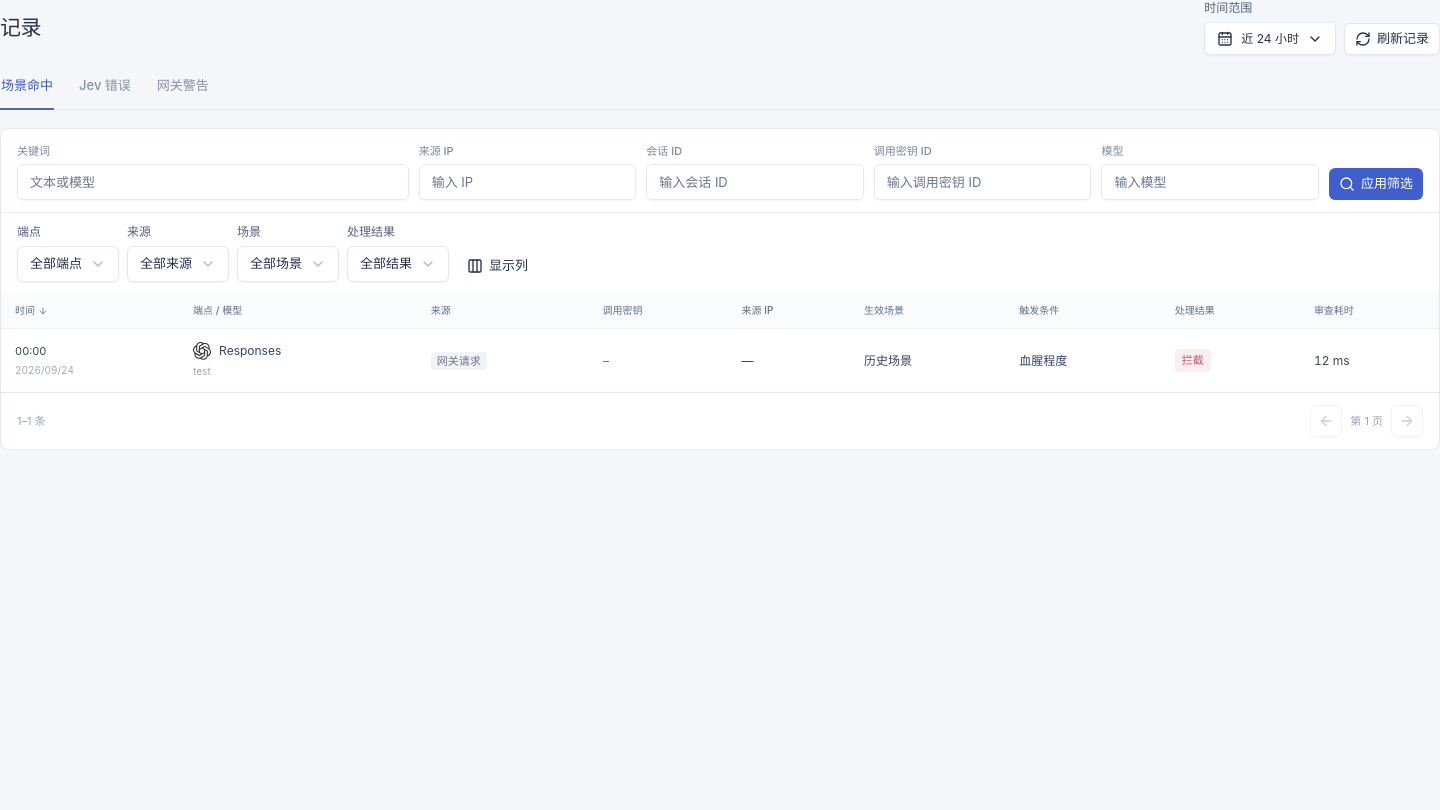
Scenario: opens the historical threshold and carries the sample back to its scene
The width and height of the screenshot is (1440, 810).
Click the row named "查看请求 request-1": (31, 351) [1,328,1439,392]
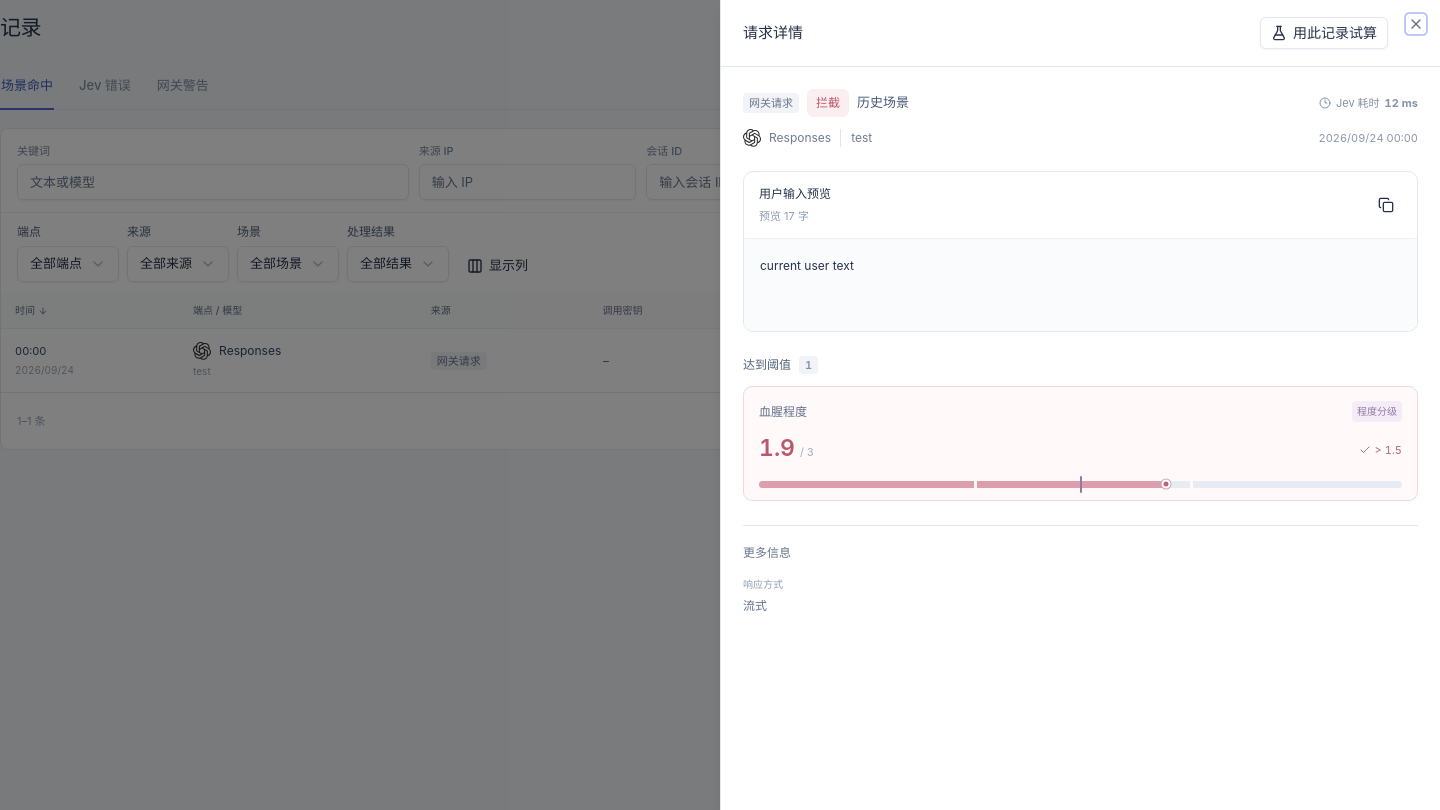
Result: the text "current user text" is shown at [744,238,1417,330]
Result: the text "> 1.5" is shown at [1359,442,1402,458]
